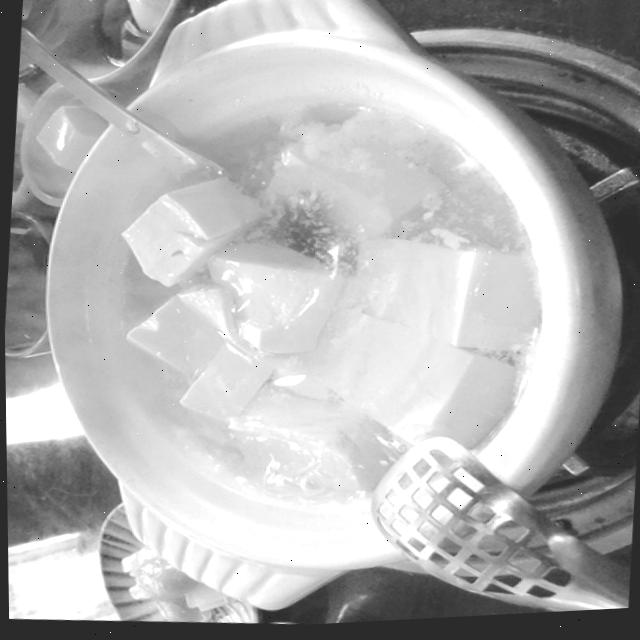豆腐料理: (30, 16, 601, 600)
